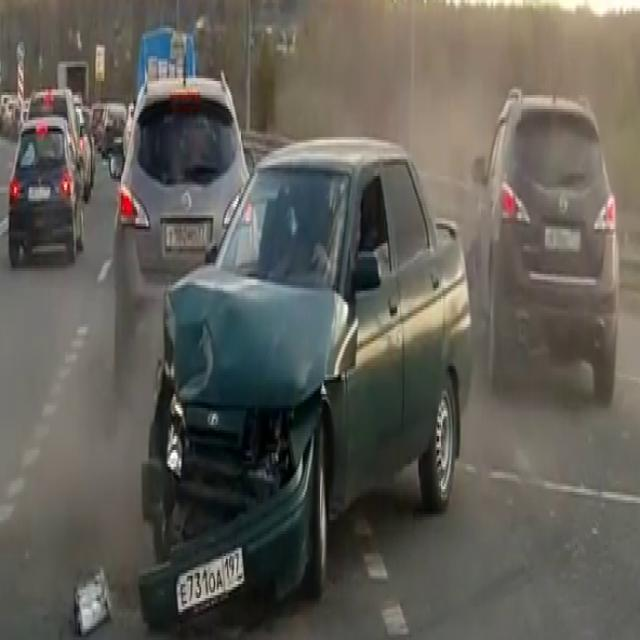accident: (135, 135, 442, 618)
